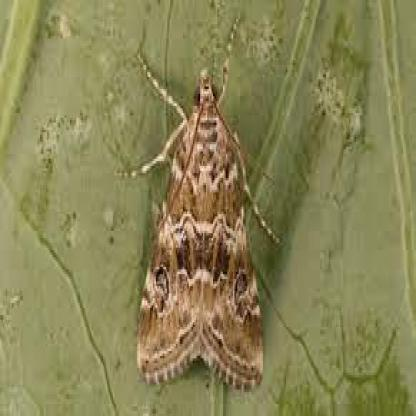Hellula undalis: (100, 40, 293, 394)
